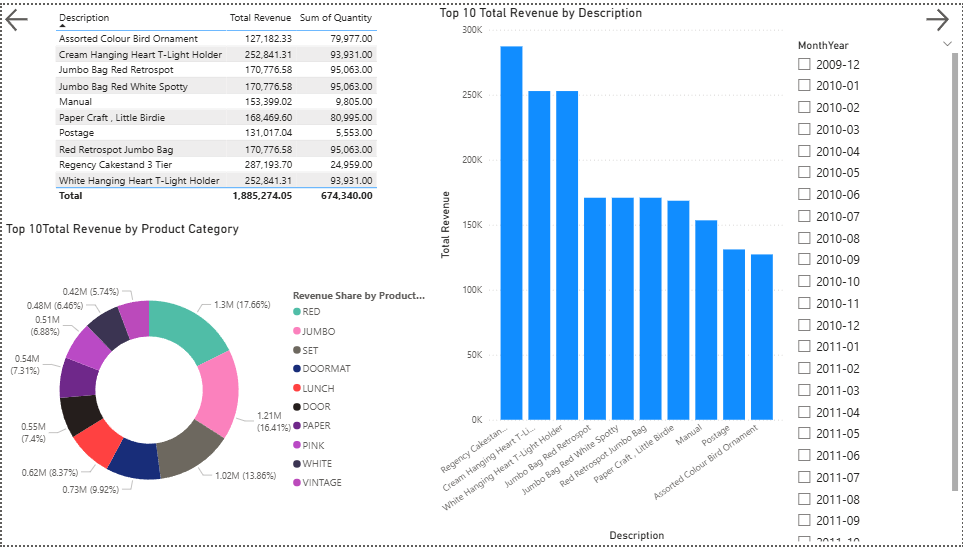

Layout of this report page (visuals, bound fields, positions):
{"tool":"powerbi","page":{"name":"Product Performance Page","canvas":[1280,720],"ordinal":1},"visuals":[{"type":"tableEx","fields":{"Values":["dim_product.Description","fact_sales.Total Revenue","Sum(fact_sales.Quantity)"]},"box":[64.3,0,441.4,277.1],"z":0},{"type":"columnChart","title":"Top 10 Total Revenue by Description","fields":{"Category":["dim_product.Description"],"Y":["fact_sales.Total Revenue"]},"box":[578.6,0,470,720],"z":1000},{"type":"donutChart","title":"Top 10Total Revenue by Product Category","fields":{"Category":["dim_product.Product Category"],"Y":["fact_sales.Total Revenue"]},"box":[0,288.6,568.6,431.4],"z":2000},{"type":"slicer","fields":{"Values":["dim_date.MonthYear"]},"box":[1048.6,40,231.4,680],"z":3000},{"type":"actionButton","box":[1227.1,0,52.9,40],"z":3001},{"type":"actionButton","box":[0,0,100,40],"z":3002}]}

Visuals, with their boxes in screenshot pixels (x1, y1, x2, y2), scaled from the page's 1280x720 canvas onto the 963x548 screenshot:
tableEx - dim_product.Description x fact_sales.Total Revenue: x1=48, y1=0, x2=380, y2=211
"Top 10 Total Revenue by Description" columnChart: x1=435, y1=0, x2=789, y2=547
"Top 10Total Revenue by Product Category" donutChart: x1=0, y1=220, x2=428, y2=547
slicer - dim_date.MonthYear: x1=789, y1=30, x2=962, y2=547
actionButton: x1=923, y1=0, x2=962, y2=30
actionButton: x1=0, y1=0, x2=75, y2=30
